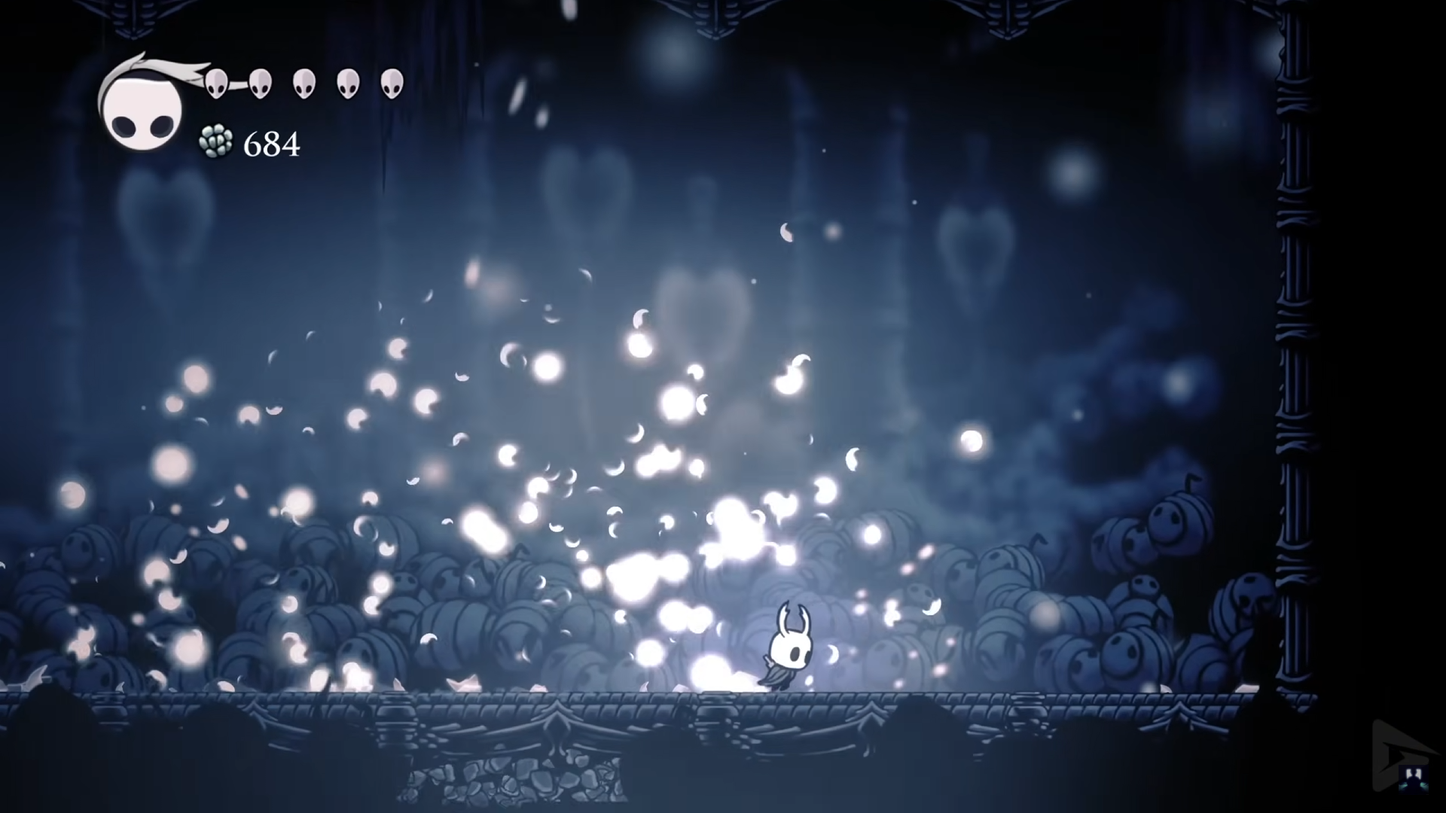HK: (758, 600, 819, 695)
